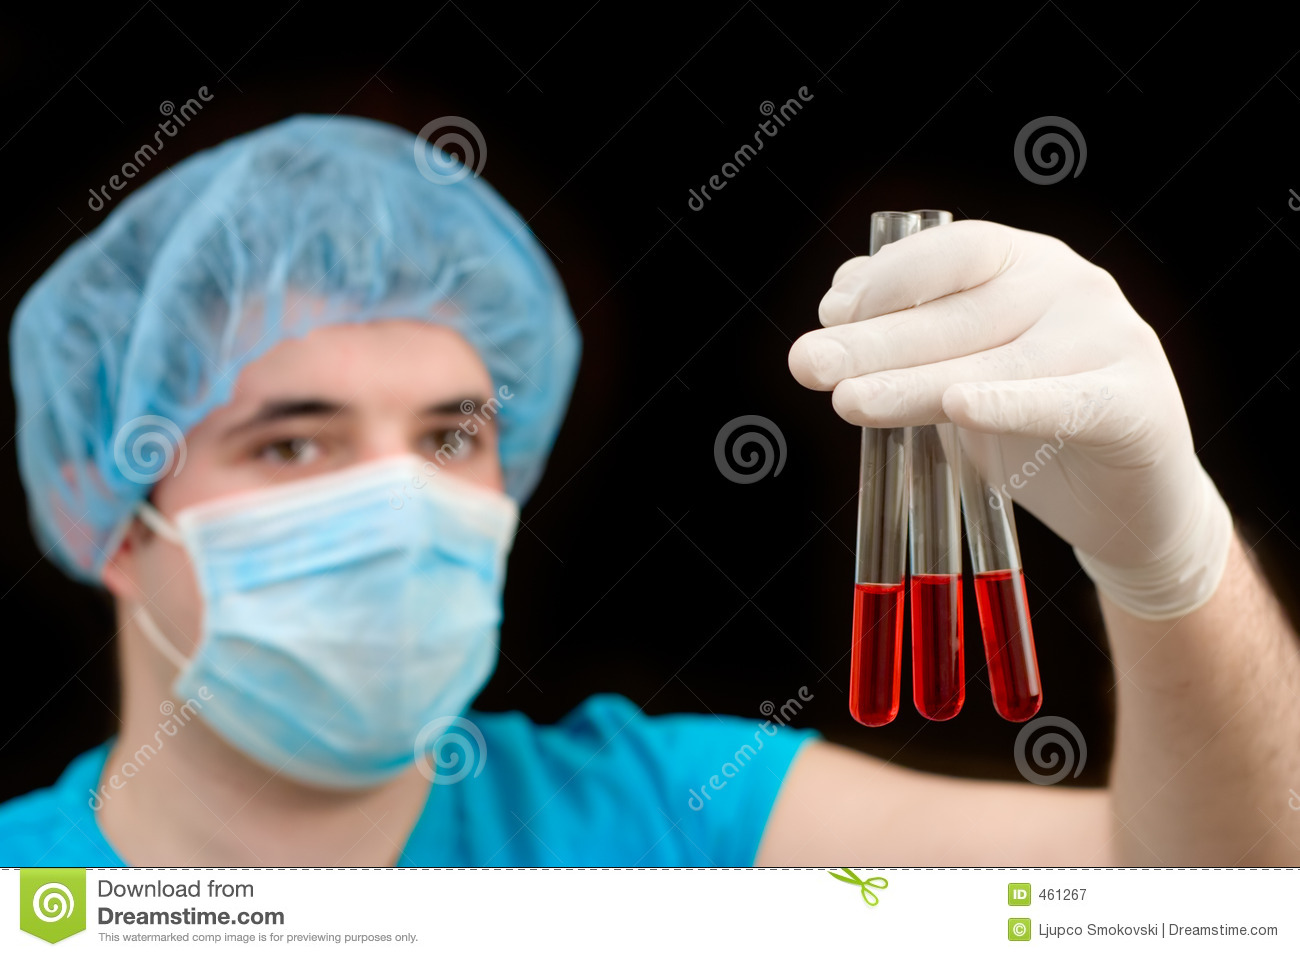mask: (172, 477, 535, 801)
